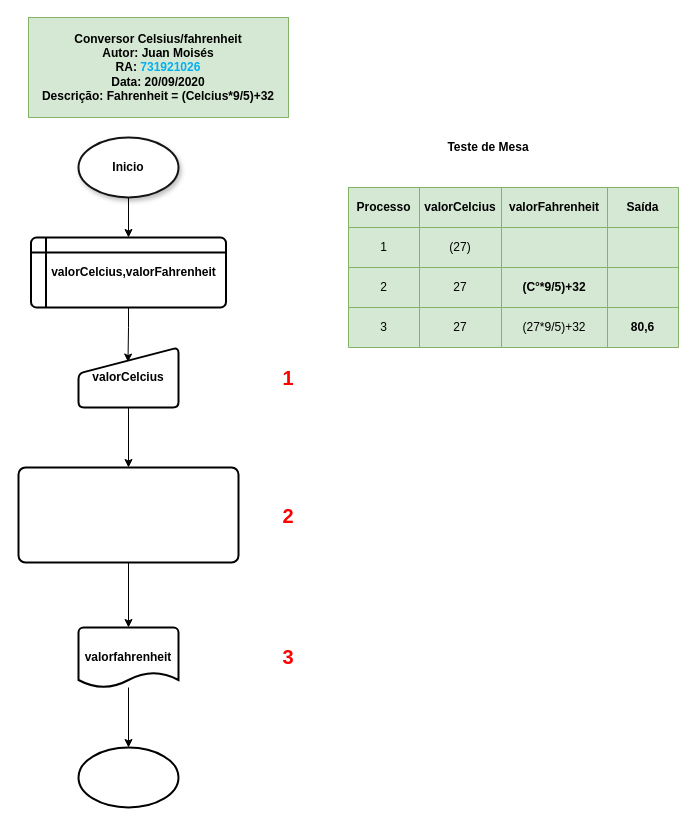
This 696x826 diagram has some shape labels left out. The centre of each missing label's shape, as x and y in pixels:
Fim: the point at 128,777
valorFahrenheit = (valorCelcius*9/5)+32: the point at 128,514
